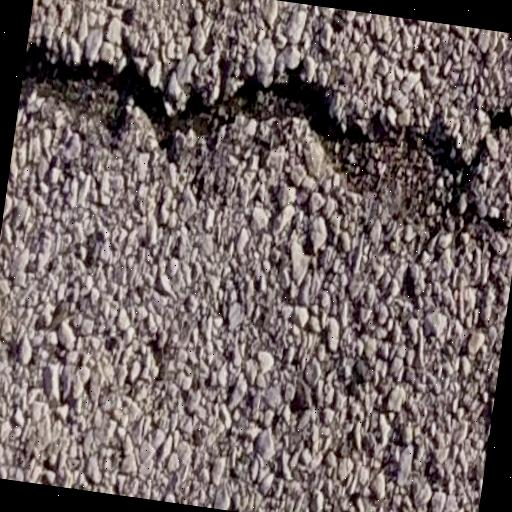spalling: (29, 17, 512, 240)
